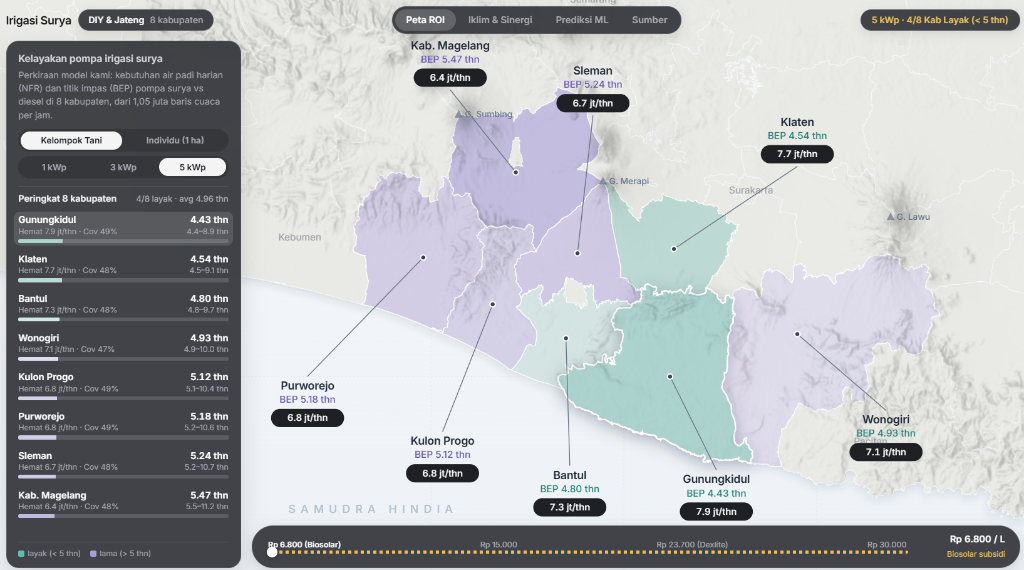

The dashboard page shown, as its layout file describes it:
{"tool":"powerbi","page":{"name":"Executive ROI","canvas":[1920,1080],"ordinal":0},"visuals":[{"type":"slicer","fields":{"Values":["public fact_roi_simulation.fuel_scenario"]},"box":[138.6,0,278.7,258.2],"z":0},{"type":"slicer","fields":{"Values":["public fact_roi_simulation.land_mode"]},"box":[615.7,0,278.7,258.2],"z":1000},{"type":"slicer","fields":{"Values":["public dim_scenario.capacity_kwp"]},"box":[1050.5,0,278.7,258.2],"z":2000},{"type":"slicer","fields":{"Values":["public fact_roi_simulation.diesel_l_per_m3"]},"box":[1502.7,0,278.7,258.2],"z":3000},{"type":"cardVisual","fields":{"Data":["_Measures.Avg BEP Low (Yr)"]},"box":[153.2,272.8,278.7,214.5],"z":4000},{"type":"cardVisual","fields":{"Data":["_Measures.Avg BEP High (Yr)"]},"box":[615.7,272.8,278.7,208.6],"z":5000},{"type":"cardVisual","fields":{"Data":["_Measures.Solar Coverage %"]},"box":[1037.3,286,278.7,201.3],"z":6000},{"type":"cardVisual","fields":{"Data":["_Measures.Annual Net Saving (Low)"]},"box":[1502.7,272.8,278.7,189.7],"z":7000},{"type":"clusteredBarChart","fields":{"Category":["public dim_region.kabupaten"],"Y":["_Measures.Avg BEP Low (Yr)","_Measures.Avg BEP High (Yr)"]},"box":[161.9,519.4,1186.1,519.4],"z":8000},{"type":"tableEx","fields":{"Values":["public dim_region.kabupaten","_Measures.Avg BEP Low (Yr)","_Measures.Avg BEP High (Yr)","_Measures.Solar Coverage %","_Measures.Annual Net Saving (Low)"]},"box":[1396.2,519.4,315.1,484.4],"z":9000}]}

Visuals, with their boxes in screenshot pixels (x1, y1, x2, y2), scaled from the page's 1920x1080 canvas onto the 1024x570 screenshot:
slicer - public fact_roi_simulation.fuel_scenario: 74/0/223/136
slicer - public fact_roi_simulation.land_mode: 328/0/477/136
slicer - public dim_scenario.capacity_kwp: 560/0/709/136
slicer - public fact_roi_simulation.diesel_l_per_m3: 801/0/950/136
cardVisual - _Measures.Avg BEP Low (Yr): 82/144/230/257
cardVisual - _Measures.Avg BEP High (Yr): 328/144/477/254
cardVisual - _Measures.Solar Coverage %: 553/151/702/257
cardVisual - _Measures.Annual Net Saving (Low): 801/144/950/244
clusteredBarChart - public dim_region.kabupaten x _Measures.Avg BEP Low (Yr): 86/274/719/548
tableEx - public dim_region.kabupaten x _Measures.Avg BEP Low (Yr): 745/274/913/530
